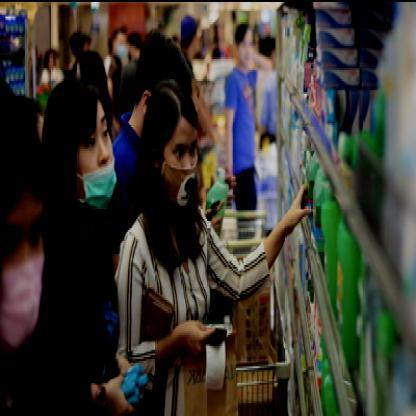mask_weared_incorrect: (76, 109, 118, 210)
with_mask: (1, 199, 49, 350), (160, 133, 200, 207)
without_mask: (237, 35, 255, 67)
